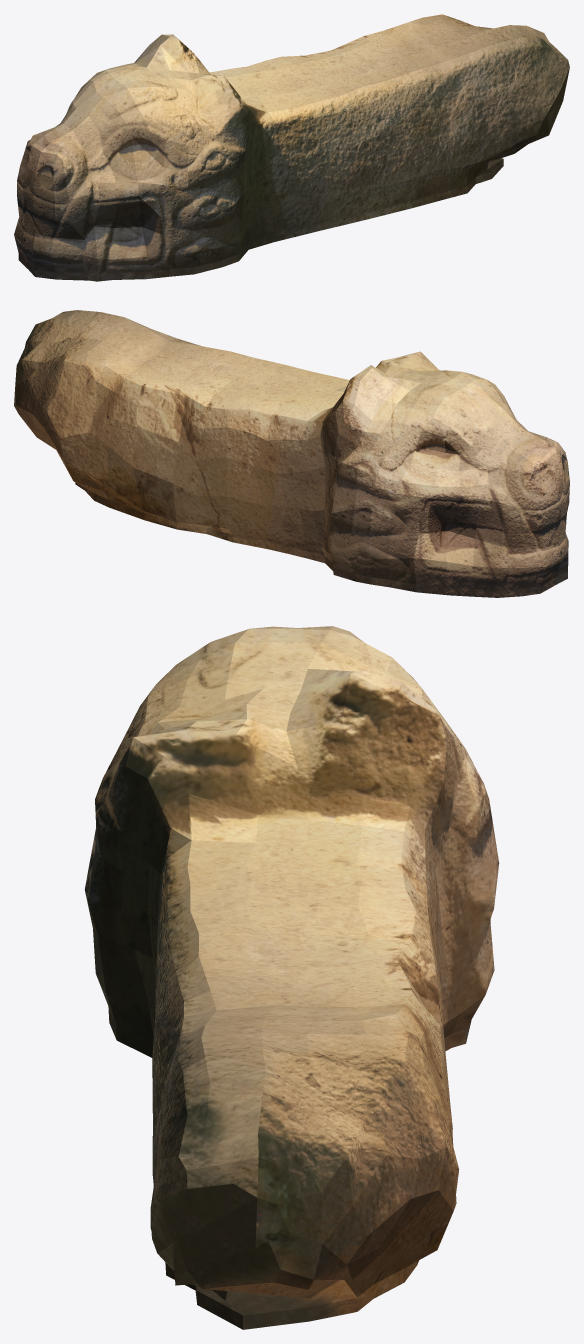
File: 6_cabeza_clava_rn_3349.glb
3 views of the same model, one above another, from view 1: azimuth 30°, elevation 25°; view 2: azimuth 150°, elevation 25°; view 3: azimuth 270°, elevation 25° (orthographic). The views are drawn at different scales.
Visible parts, largest first — view 1: Box001; view 2: Box001; view 3: Box001.
Part boxes in pixels (x1=…): Box001: x1=14, y1=14, x2=569, y2=281; Box001: x1=14, y1=310, x2=569, y2=597; Box001: x1=84, y1=626, x2=499, y2=1329.
Size of the model in its own units: 1.26 by 0.4222 by 0.4355.
Materials: 1 (1 with a texture image).
